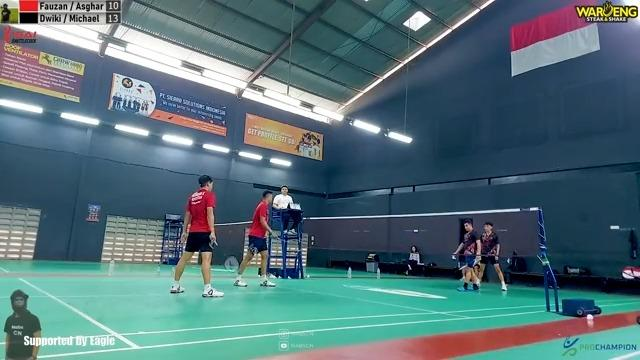Shuttlecock: (448, 254, 458, 262)
